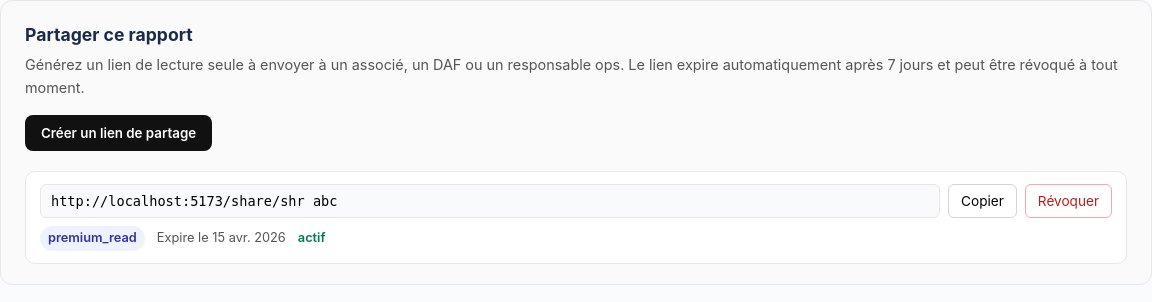
Test: ShareLinkPanel › revokes a link and removes it from the list
Expected: the field showing "http://localhost:5173/share/shr_abc" is shown, x1=40 y1=184 x2=940 y2=218
Click the button "Révoquer": {"x": 1068, "y": 201} x1=1025 y1=184 x2=1112 y2=218
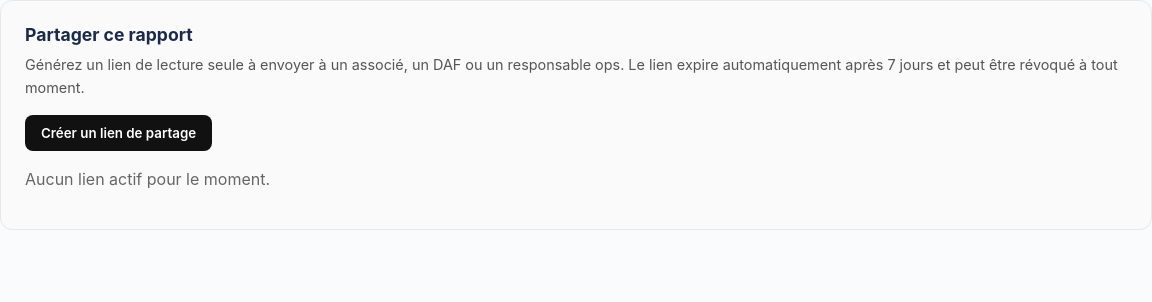
Expected: the field showing "http://localhost:5173/share/shr_abc" is not shown
Result: the text "Aucun lien actif pour le moment." is shown at x1=25 y1=169 x2=270 y2=189
